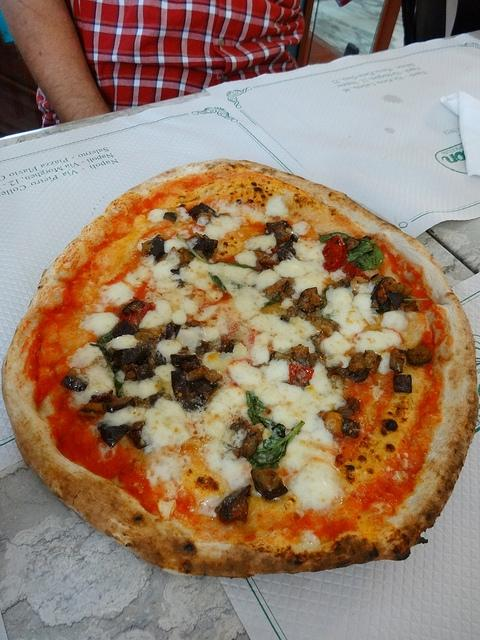mushroom: (214, 484, 252, 524), (250, 466, 288, 501), (270, 344, 320, 368), (377, 277, 412, 305), (98, 422, 130, 448), (376, 292, 412, 314), (186, 202, 230, 220), (60, 367, 88, 392), (194, 234, 219, 260), (265, 220, 292, 244), (122, 363, 155, 382), (298, 286, 322, 312), (112, 347, 140, 369), (186, 377, 218, 396), (240, 431, 260, 461), (406, 345, 433, 367), (310, 317, 341, 336), (253, 248, 278, 271), (112, 318, 140, 338), (134, 392, 166, 409), (128, 421, 148, 448), (170, 354, 200, 372), (170, 370, 186, 401), (159, 322, 181, 342), (364, 350, 382, 374), (150, 233, 166, 260), (176, 248, 196, 268), (390, 348, 406, 373), (342, 418, 360, 438), (80, 402, 105, 416), (393, 374, 412, 392), (346, 368, 370, 382), (276, 246, 296, 262), (123, 300, 144, 314), (344, 236, 360, 252), (219, 336, 234, 353)
